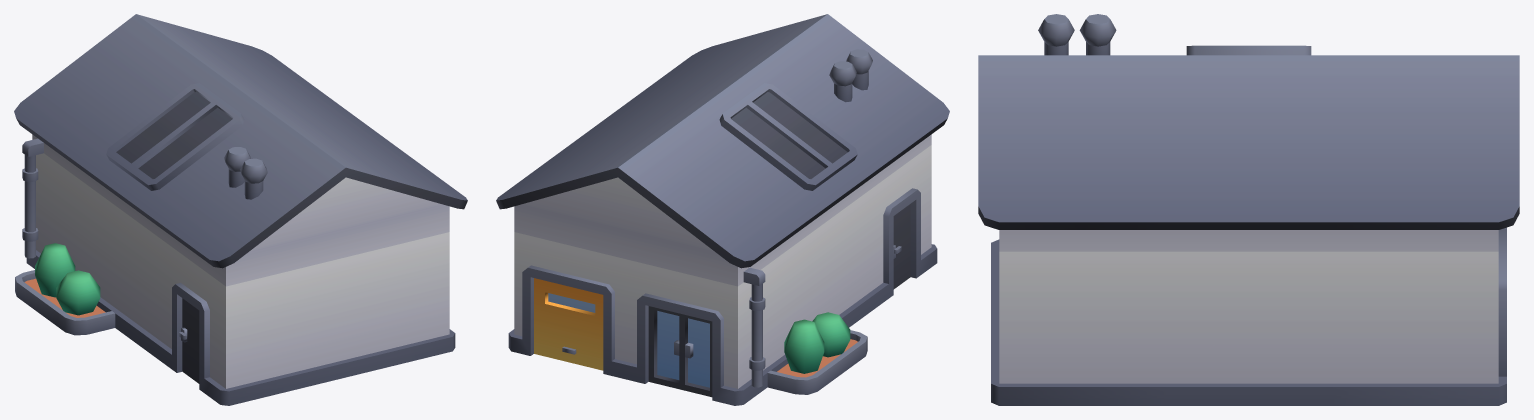
The model's file is kenney-city-industrial-building-i.glb.
3 renders of one model, left to right at view 1: azimuth 30°, elevation 25°; view 2: azimuth 150°, elevation 25°; view 3: azimuth 270°, elevation 25°, orthographic. The views are drawn at different scales.
Parts seen in each view (by area): view 1: building-i; view 2: building-i; view 3: building-i.
Boxes of the visible parts, bbox=[...] form: building-i: bbox=[14, 14, 467, 405]; building-i: bbox=[496, 14, 949, 405]; building-i: bbox=[978, 14, 1519, 405].
Size of the model in its own units: 1.03 by 0.7336 by 1.3.
Materials: 1 (1 with a texture image).
